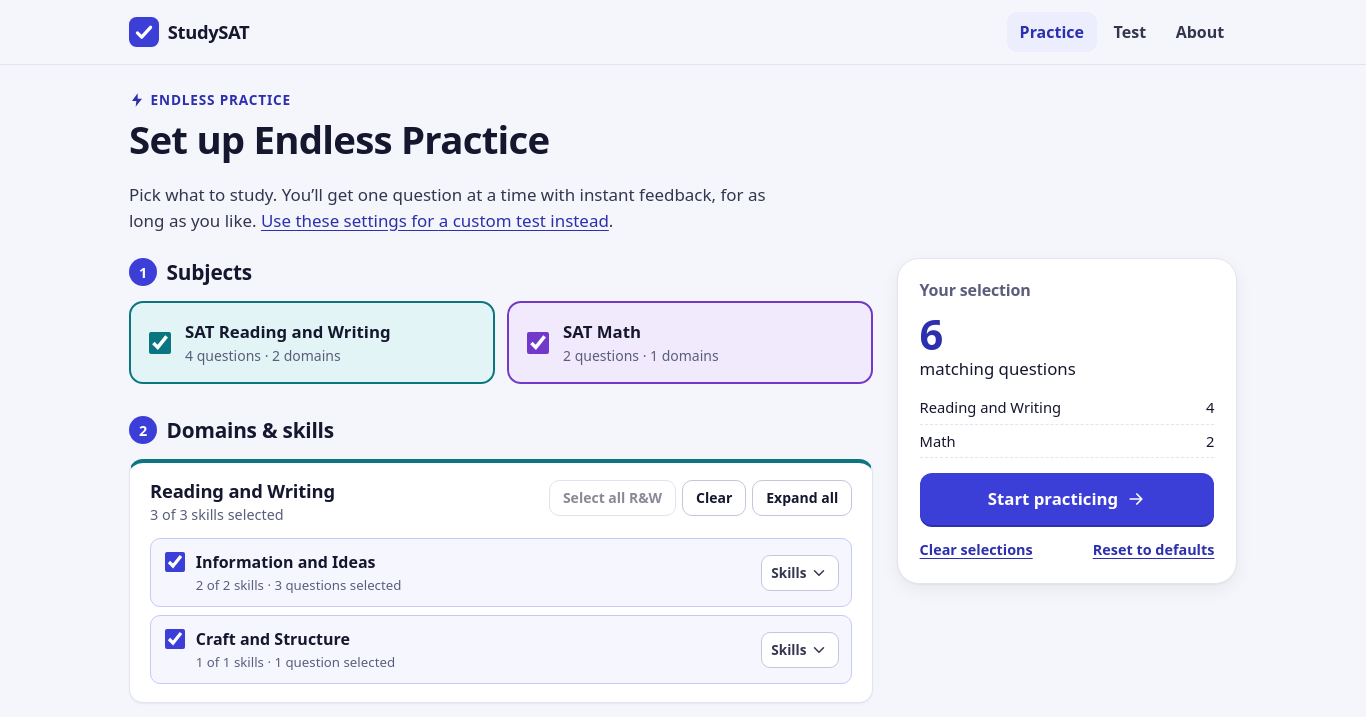
Scenario: setup › shows domains and skills from the question data, grouped by subject
This screenshot has width=1366, height=717.
Check: the text "6" is shown, box top-left (920, 306), bottom-right (943, 362)
Check: the text "Information and Ideas" is shown, box top-left (196, 550), bottom-right (401, 574)
Click the button named "show skills in information and ideas". click: {"x": 800, "y": 573}
box: top-left (761, 555), bottom-right (839, 591)
(page scrolled)
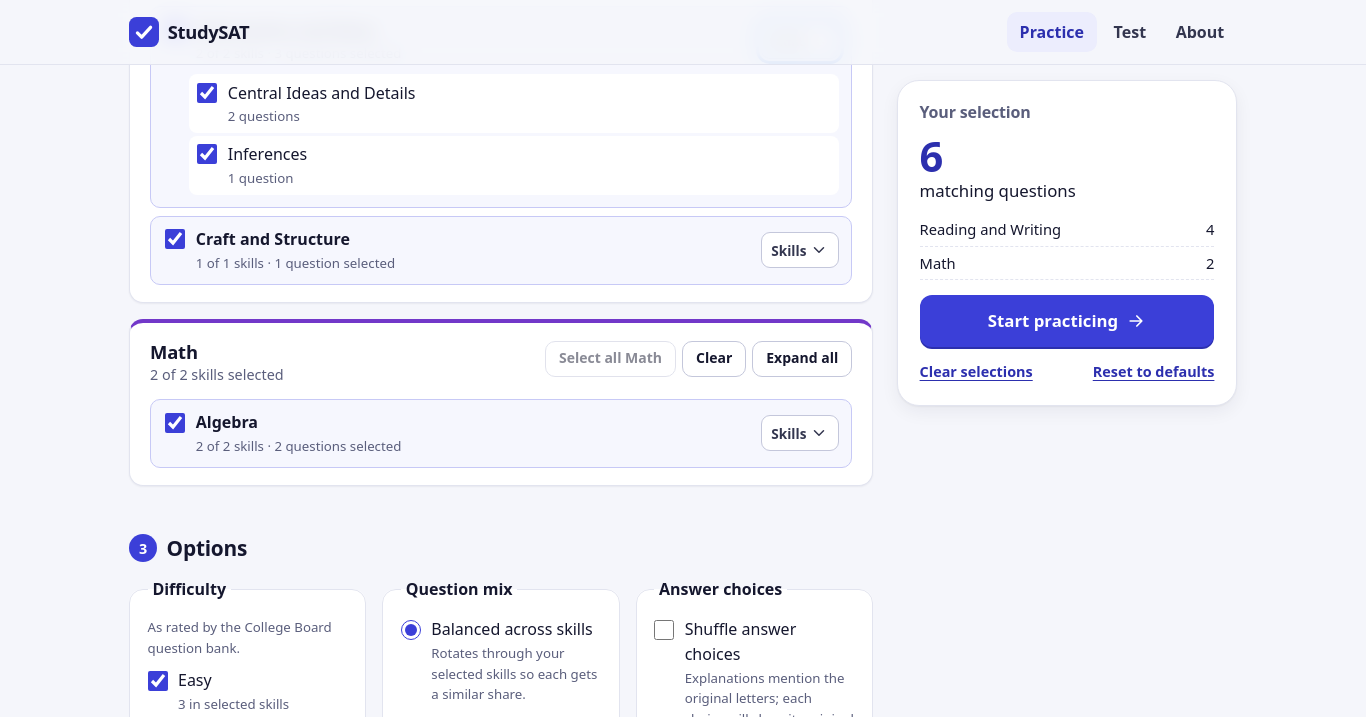
Check: the text "Algebra" is shown, box top-left (196, 411), bottom-right (258, 433)
Check: the checkbox labelled "Central Ideas and Details 2 questions" is checked, box top-left (197, 83), bottom-right (217, 103)
Check: the checkbox labelled "Inferences 1 question" is checked, box top-left (197, 144), bottom-right (217, 164)
